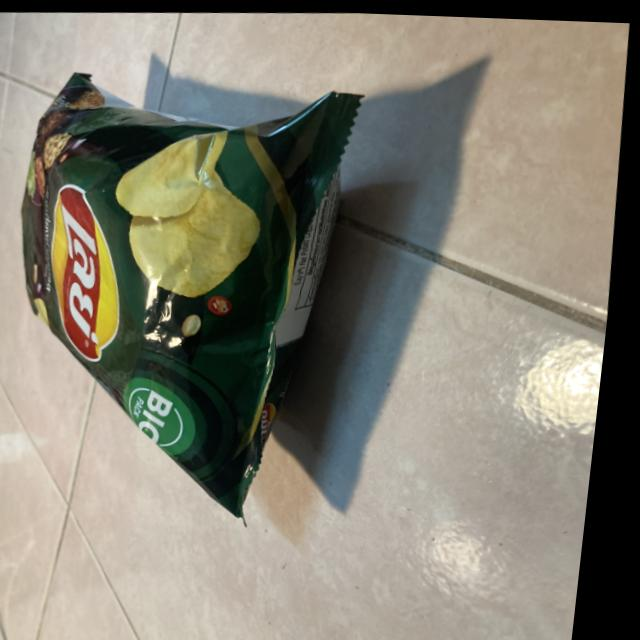Laygreen: (0, 46, 415, 555)
